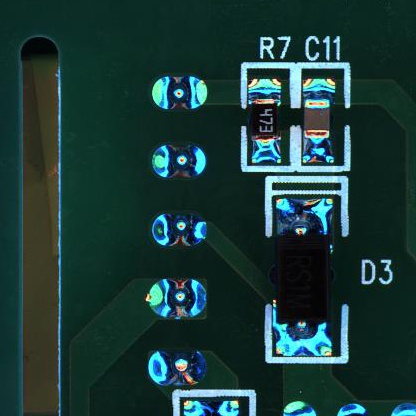spot: (142, 275, 210, 323), (148, 210, 214, 248), (147, 348, 210, 387), (149, 142, 211, 181), (148, 73, 211, 110)
